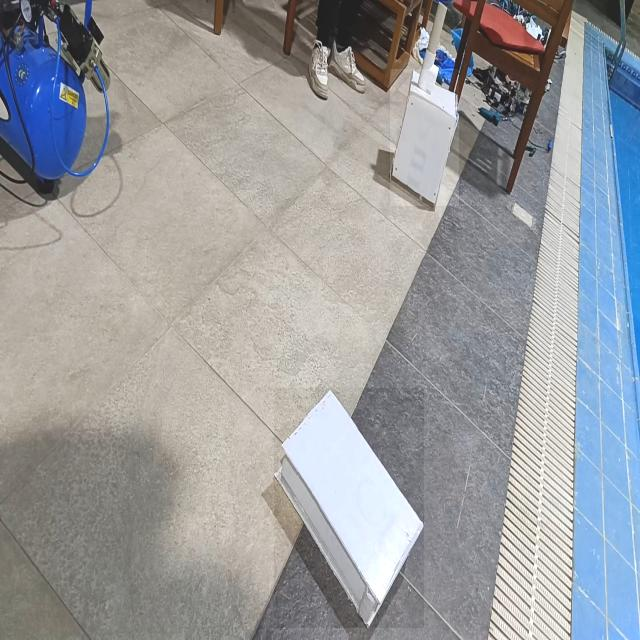Cube: (390, 69, 459, 206)
Cuboid: (274, 388, 424, 628)
